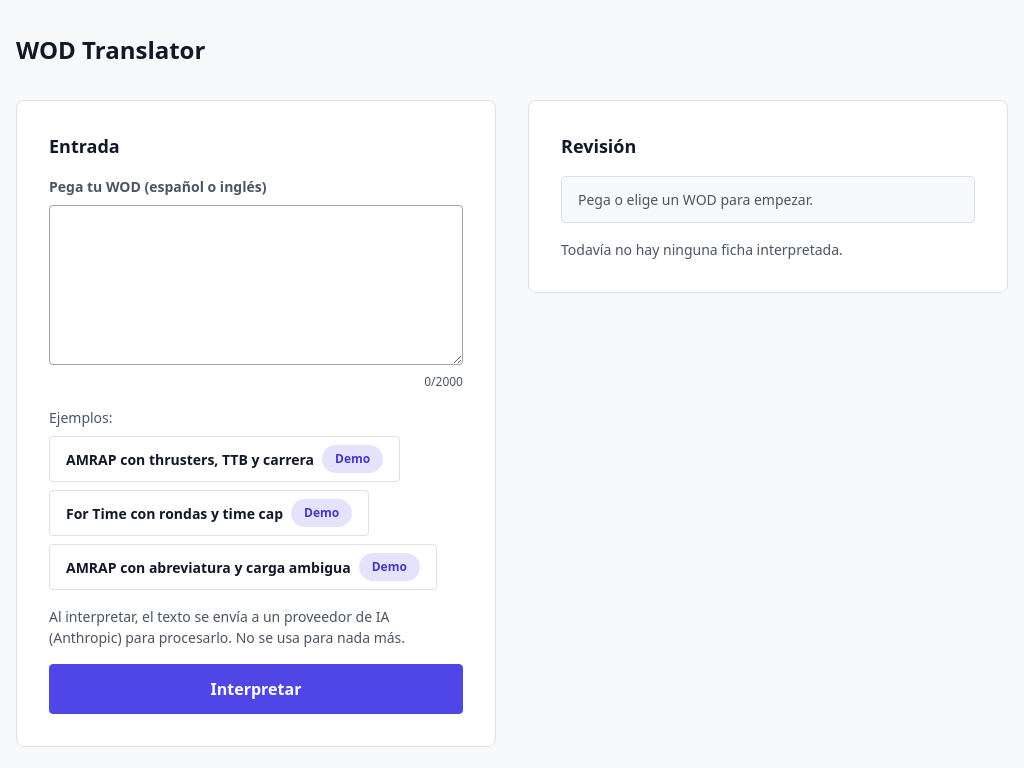
App › shows the unsupported-format error state for EMOM text
In the text box labelled "Pega tu WOD (español o inglés)": (256, 285) left=49, top=205, right=463, bottom=365, type "EMOM 20min: 5 pull-ups"
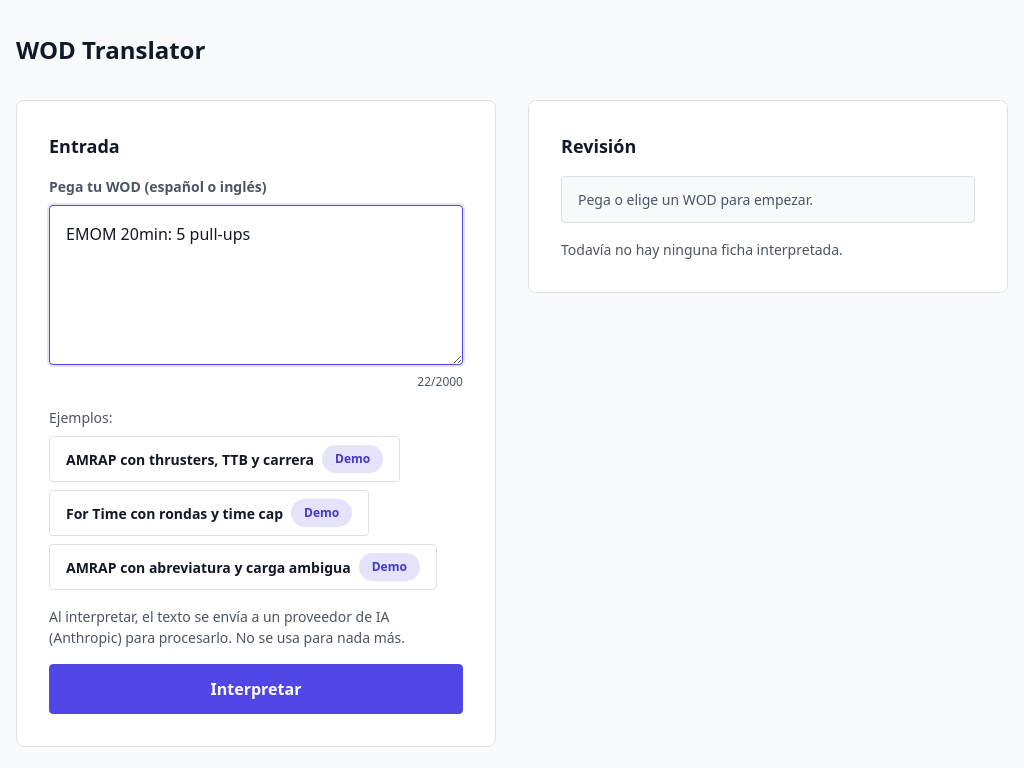
Click the button "Interpretar": (256, 689) left=49, top=664, right=463, bottom=714
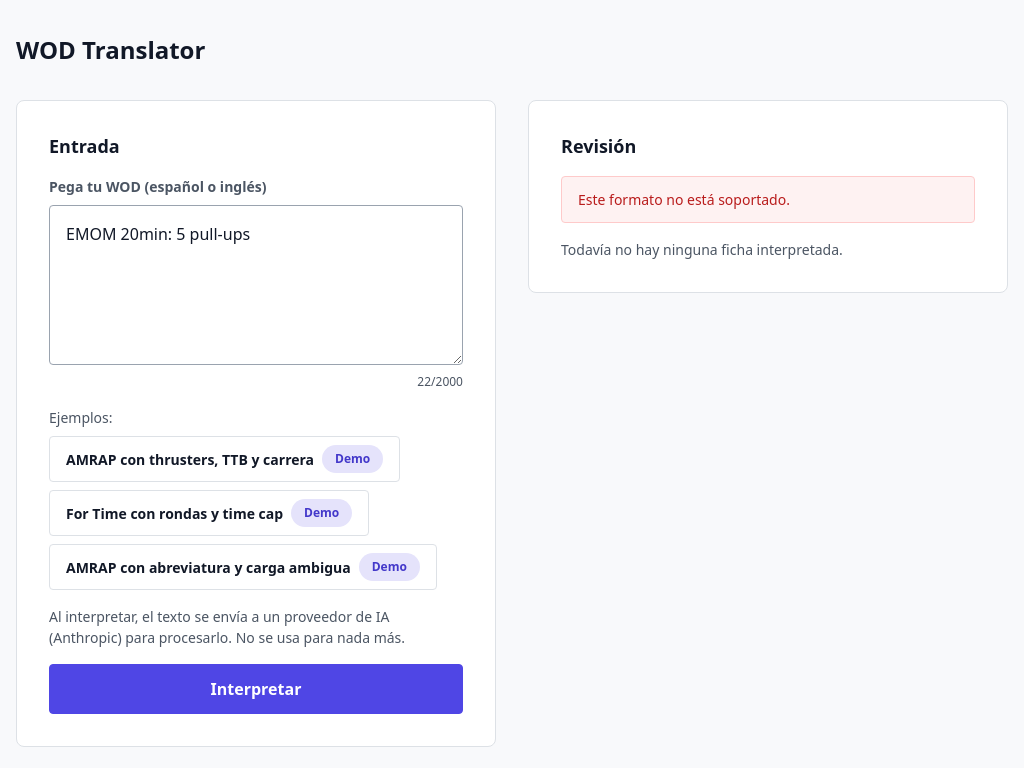
Expected: the text "Este formato no está soportado." is shown, left=561, top=176, right=975, bottom=223
